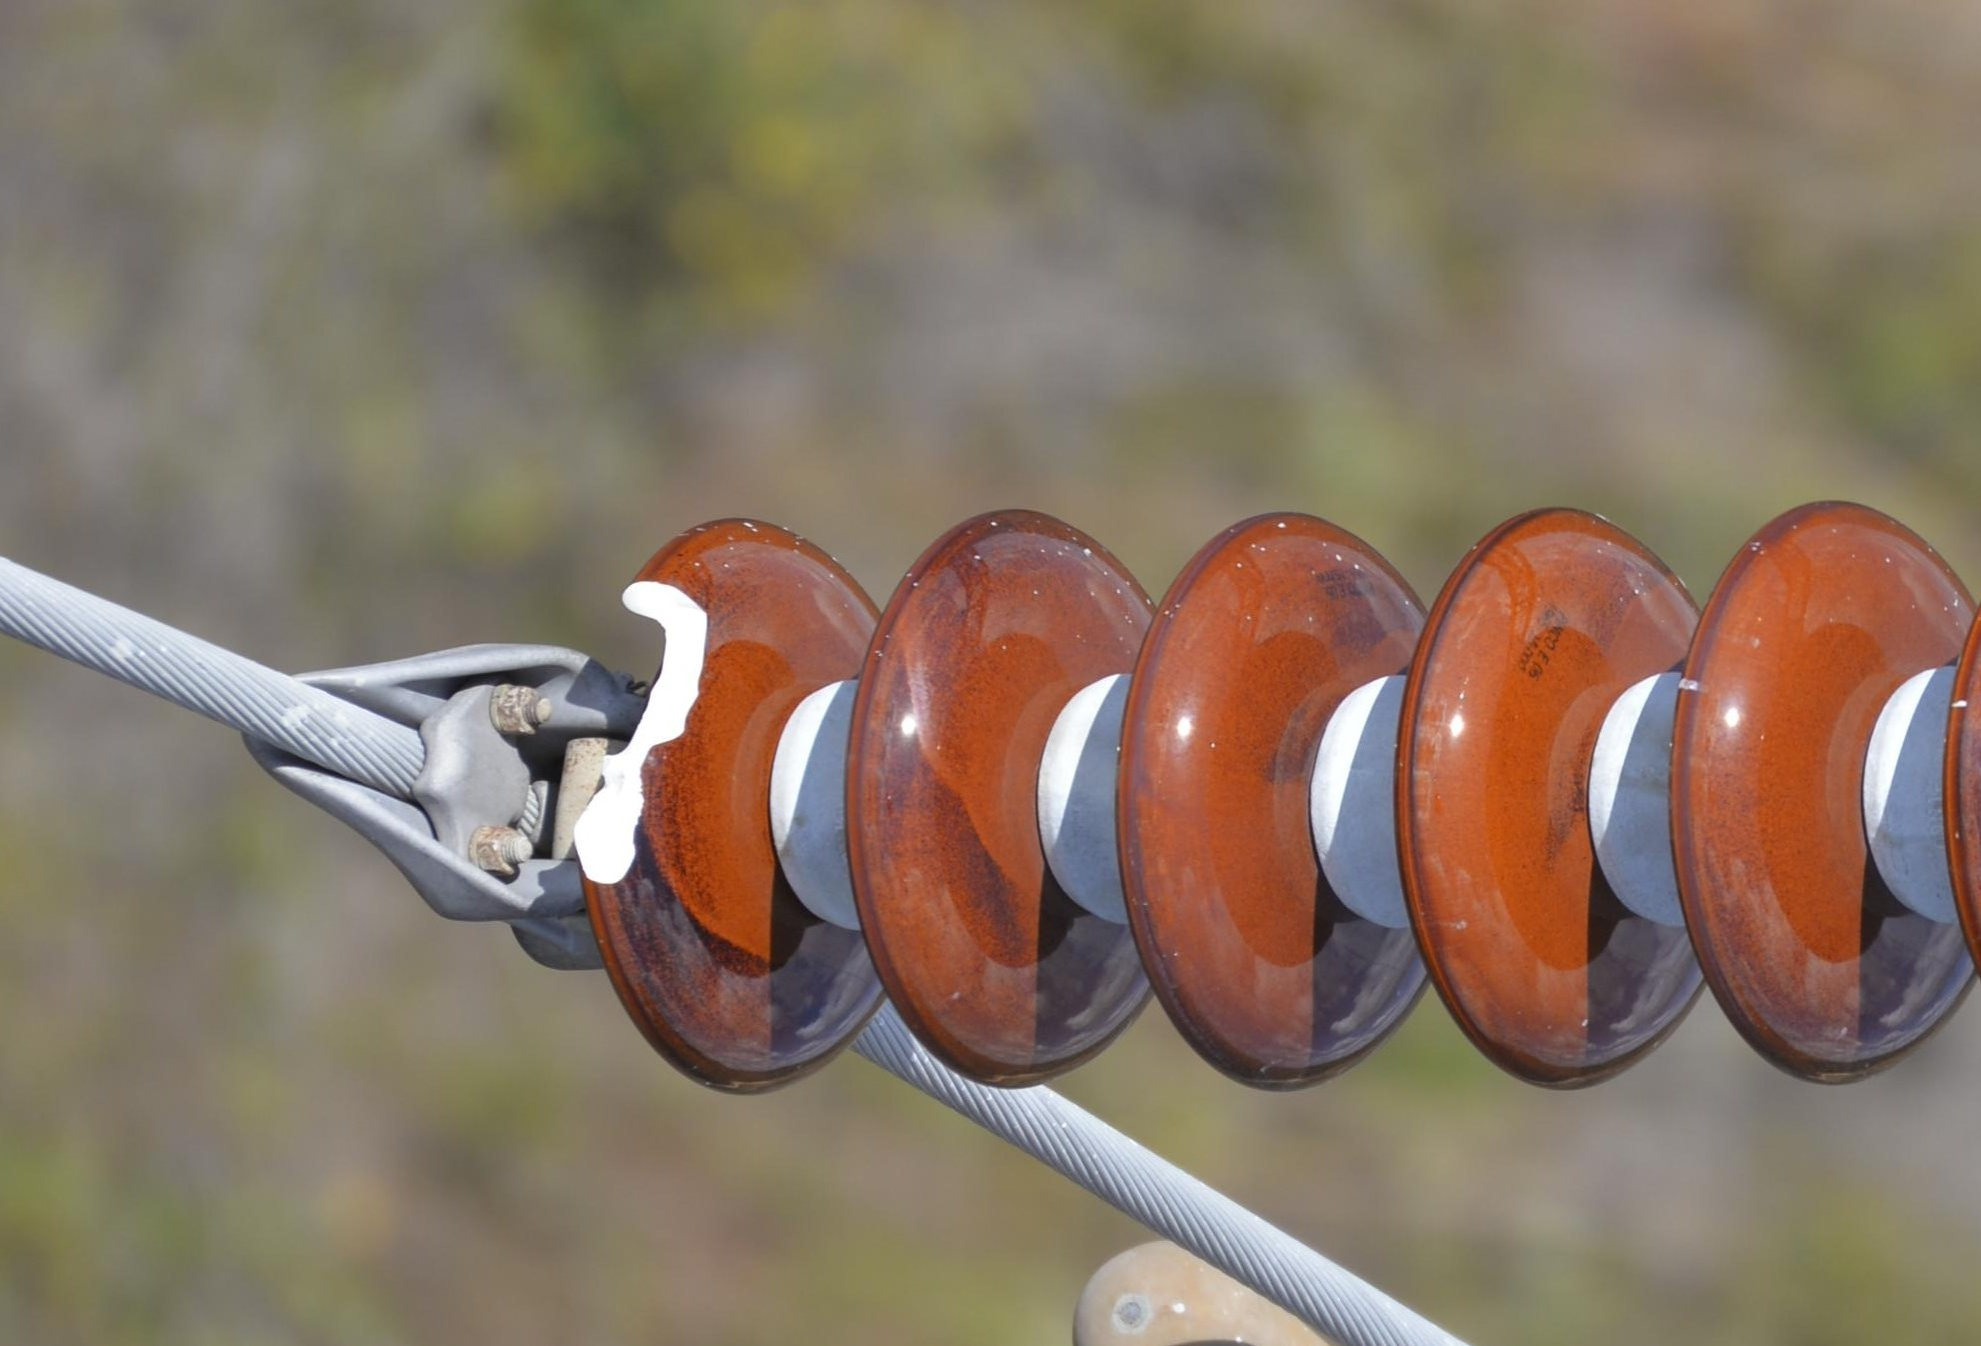insulator breakage: (557, 490, 882, 1122)
